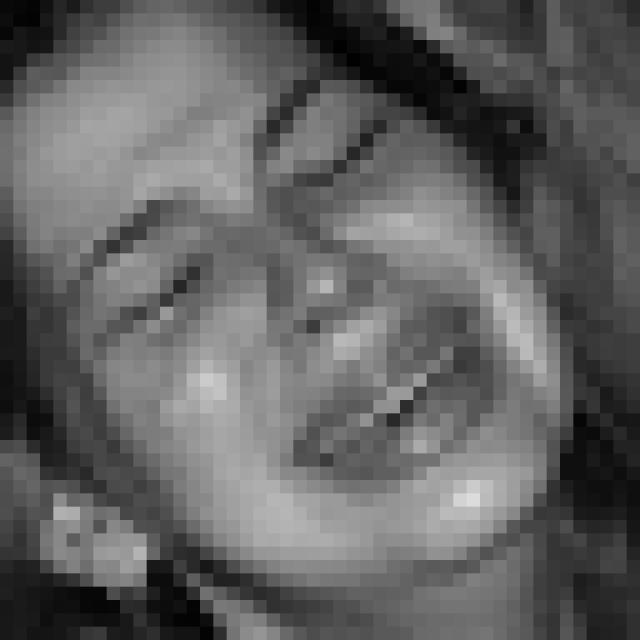sad: (44, 72, 520, 491)
